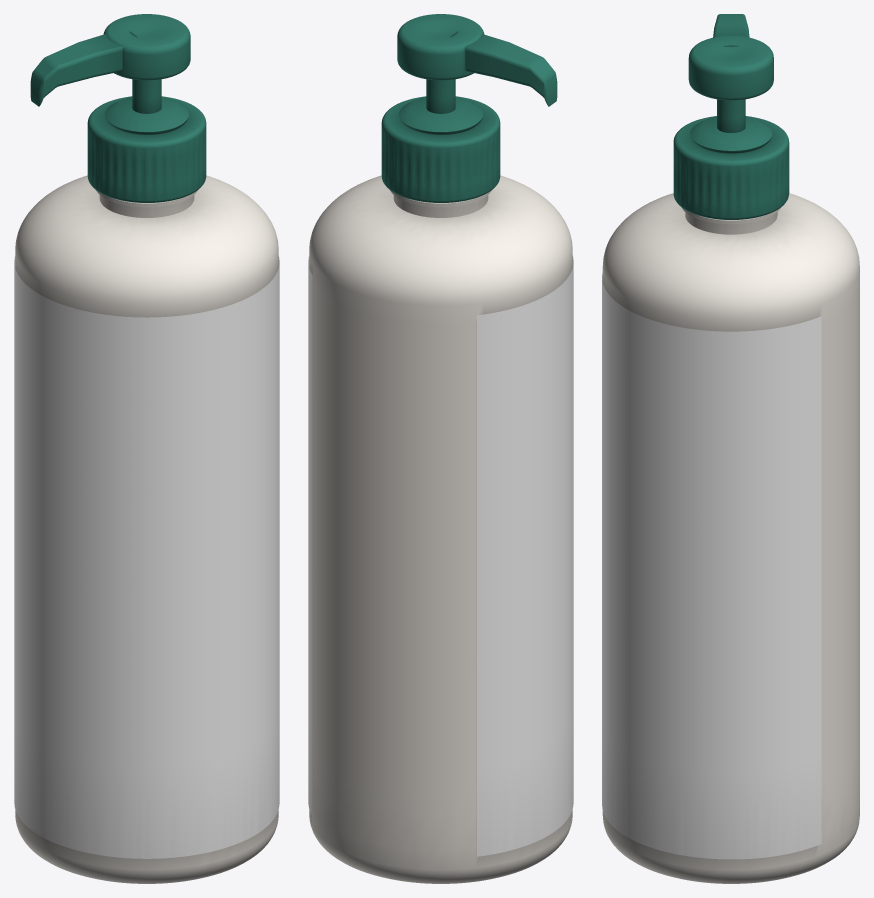
The model's file is lait.glb.
The picture shows the model from 3 angles, left to right: view 1: azimuth 30°, elevation 25°; view 2: azimuth 150°, elevation 25°; view 3: azimuth 270°, elevation 25°; orthographic projection. The views are drawn at different scales.
Visible parts, largest first — view 1: etiquette, corps, bague, tete, bec, tige; view 2: corps, etiquette, bague, tete, bec, tige; view 3: etiquette, corps, bague, tete, tige, bec.
Boxes of the visible parts, <box> form: etiquette: <box>14,256,279,858</box>; corps: <box>15,175,278,883</box>; bague: <box>87,96,206,202</box>; tete: <box>103,14,190,80</box>; bec: <box>30,31,137,106</box>; tige: <box>132,79,161,113</box>; corps: <box>309,175,572,883</box>; etiquette: <box>308,256,573,856</box>; bague: <box>381,96,500,202</box>; tete: <box>397,14,484,80</box>; bec: <box>450,31,557,106</box>; tige: <box>426,79,455,113</box>; etiquette: <box>602,273,821,859</box>; corps: <box>602,193,859,883</box>; bague: <box>673,116,789,219</box>; tete: <box>688,35,773,100</box>; tige: <box>717,99,745,132</box>; bec: <box>713,14,749,47</box>.
Bounding box in the file's own units: 0.6436 × 2.16 × 0.6418.
